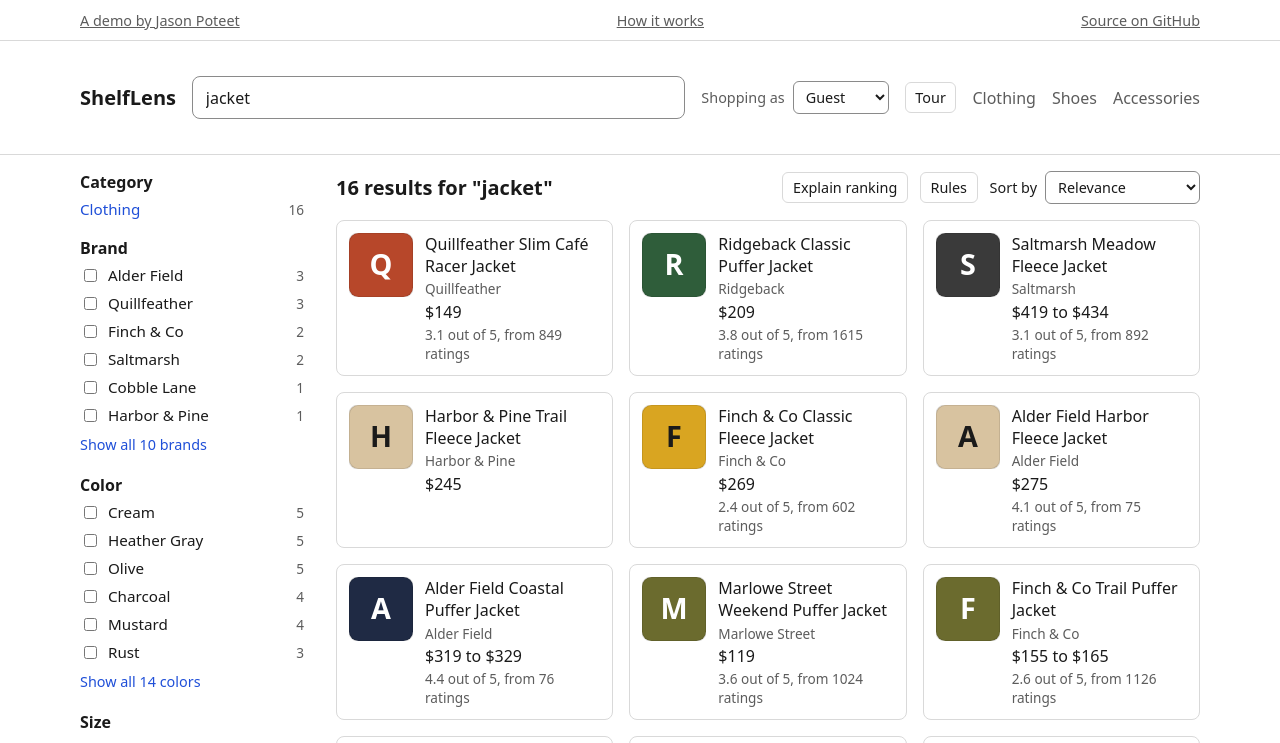
Test: as a member › is told what the switch changed on the page, once, until the next search
Expected: the heading "16 results for \"jacket\"" is shown, [336,174,553,201]
Expected: the text "Shopping as a member" is not shown
Select "Member" in the dropdown labelled "Shopping as". click: (841, 98)
box: [793,81,889,114]
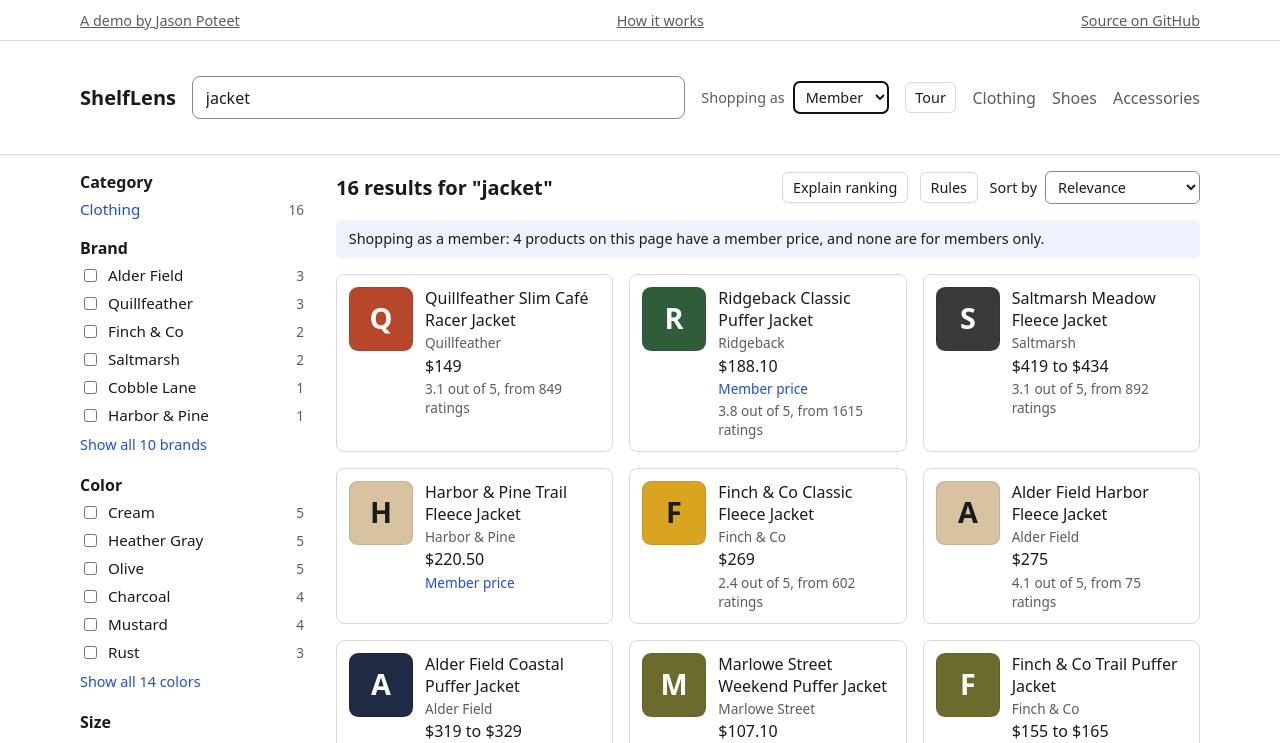
Click the button "Explain ranking". click: (845, 188)
box: [782,172,908,203]
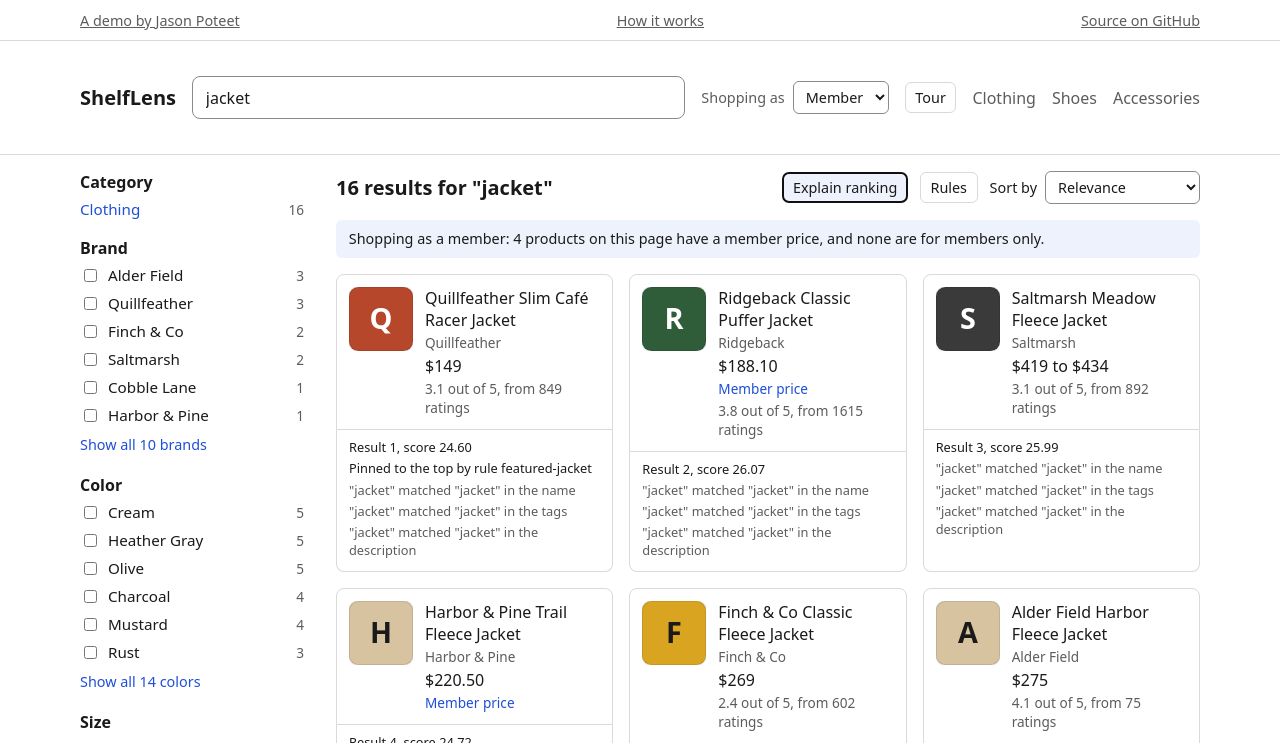
Expected: the text with class "results-aside" shows "Shopping as a member", [349,229,1044,248]
Click the link that starts with "Quillfeather Slim Café Racer Jacket". click: (475, 352)
box: [336,274,613,430]
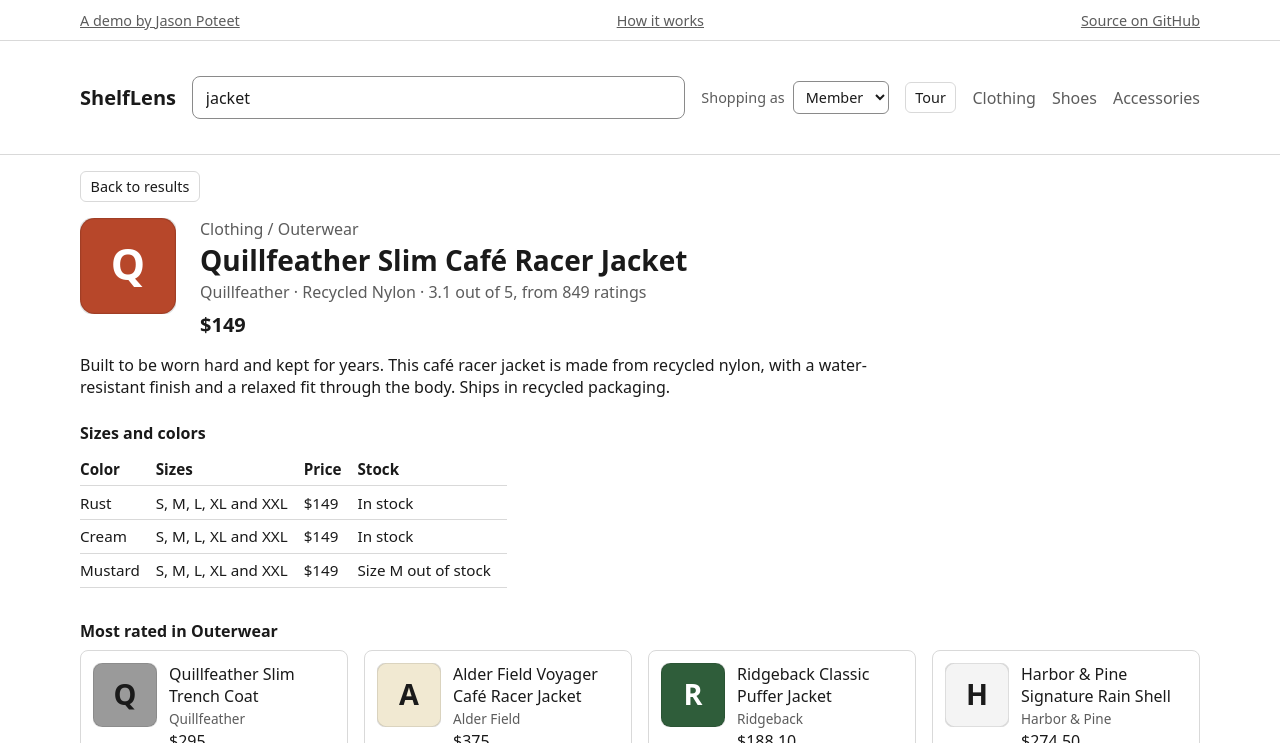
Click the button "Back to results". click: (140, 186)
box: [80,171,200,202]
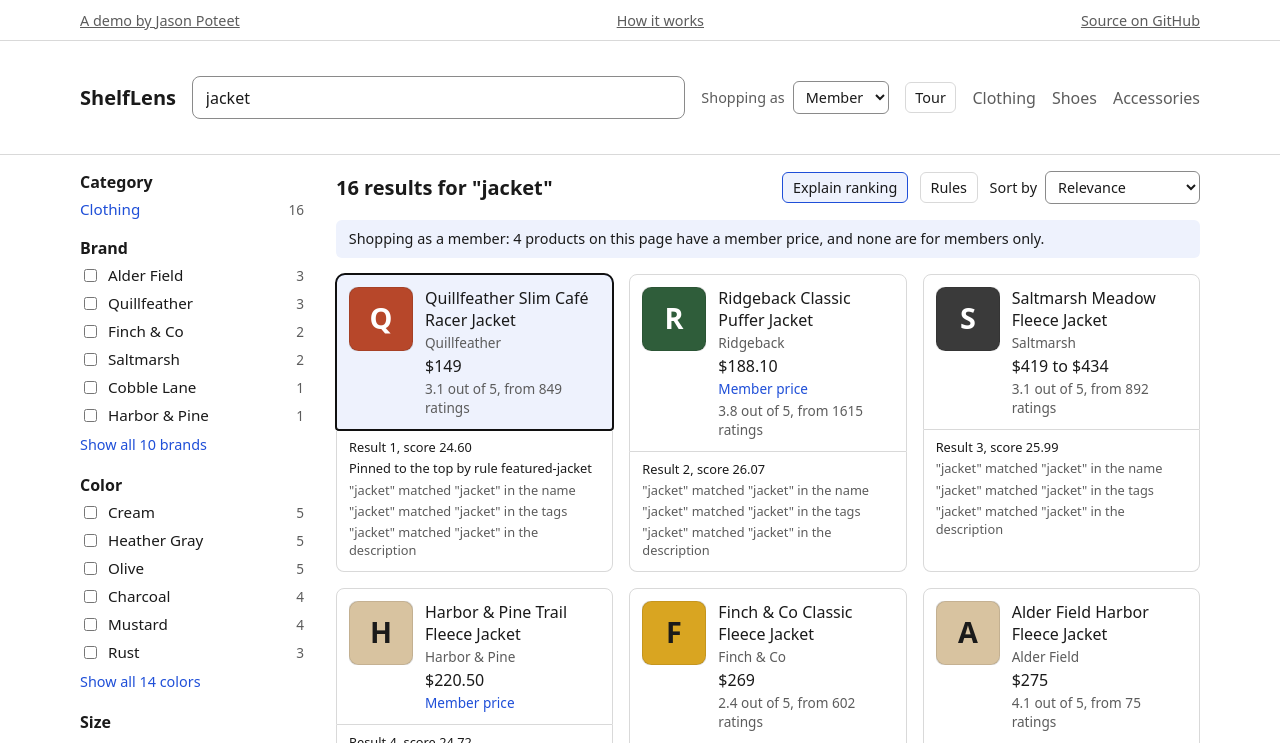
Expected: the text with class "results-aside" shows "Shopping as a member", [349,229,1044,248]
Select "Guest" in the dropdown labelled "Shopping as". click: (841, 98)
box: [793,81,889,114]
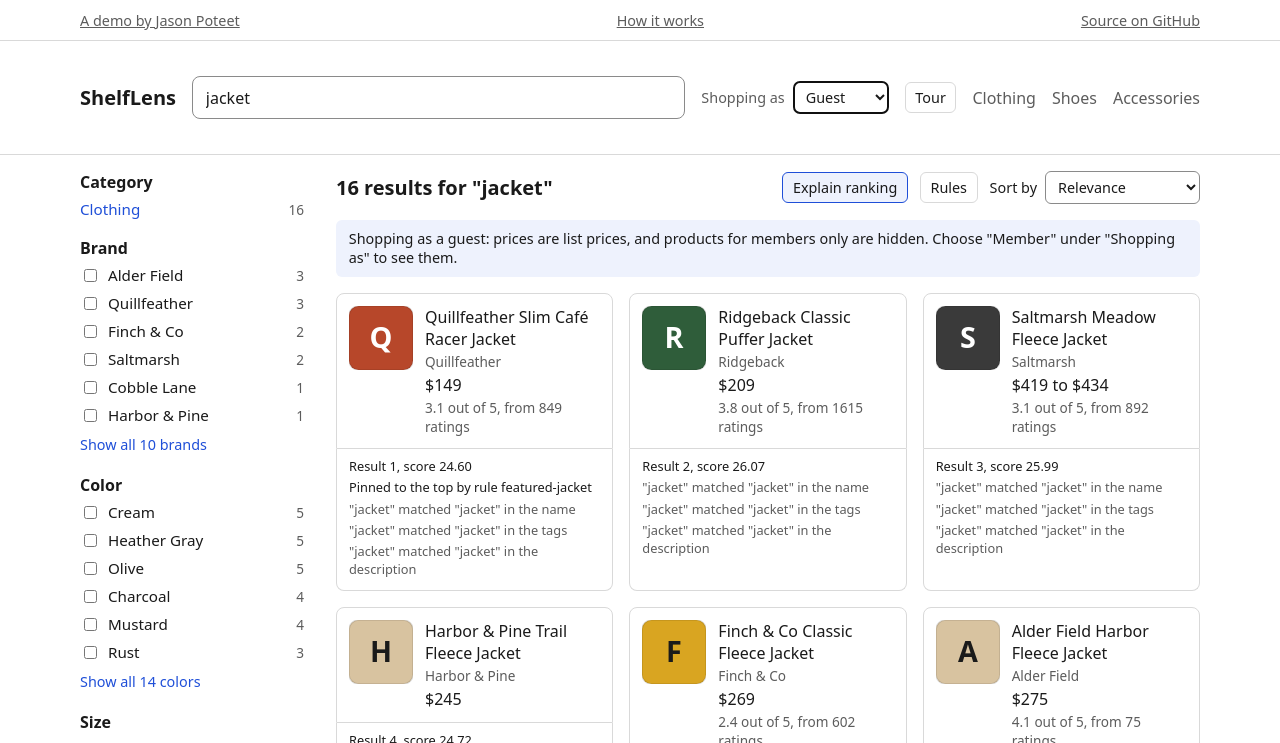
Expected: the text with class "results-aside" shows "Shopping as a guest: prices are list prices, and products for members only are hidden. Choose \"Member\" under \"Shopping as\" to see them.", [349,229,1175,267]
Type "boot" into the dropdown named "Search the store". click: (439, 98)
box: [192,76,685,119]
Then press Enter
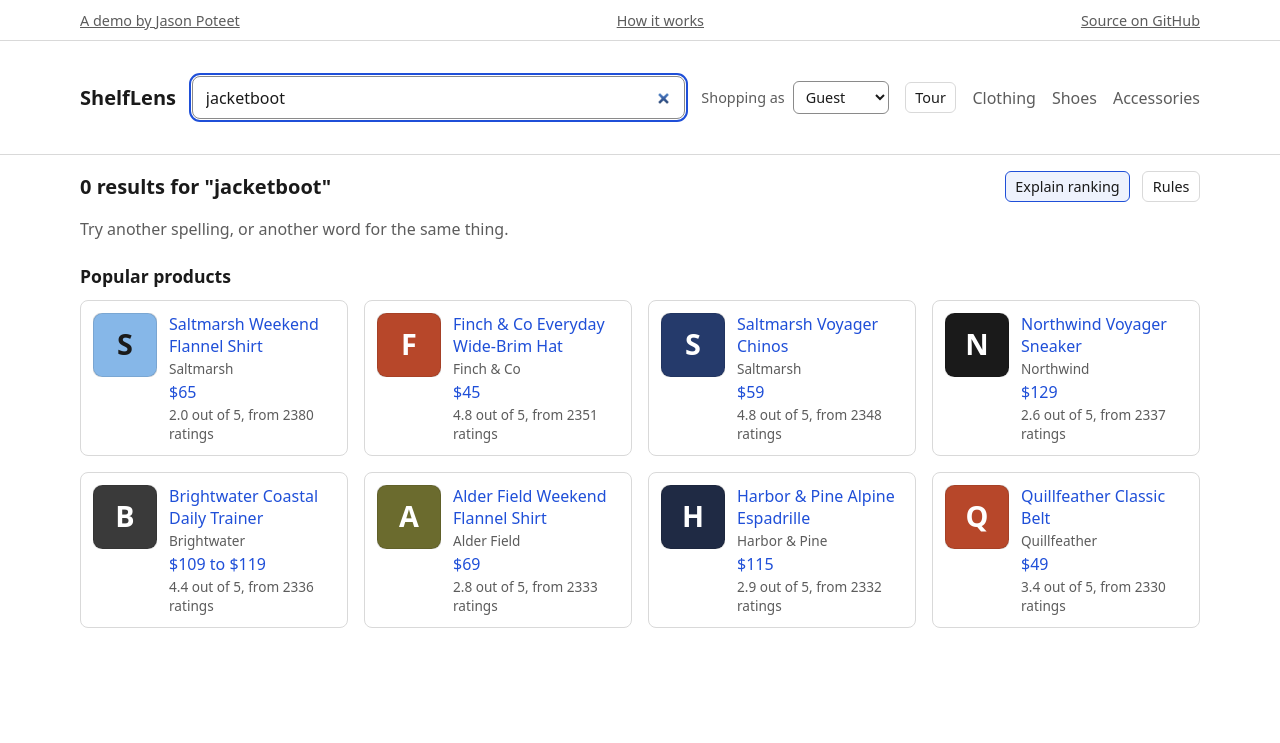
Expected: the text "Shopping as a" is gone
